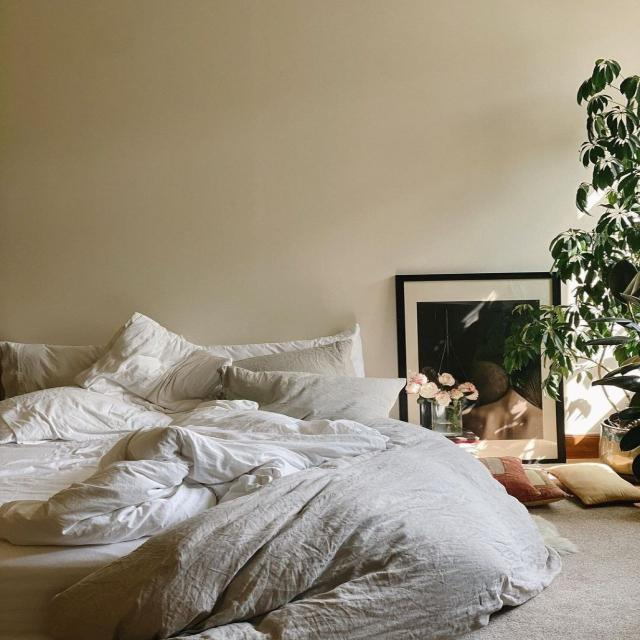bed: (0, 305, 528, 640)
